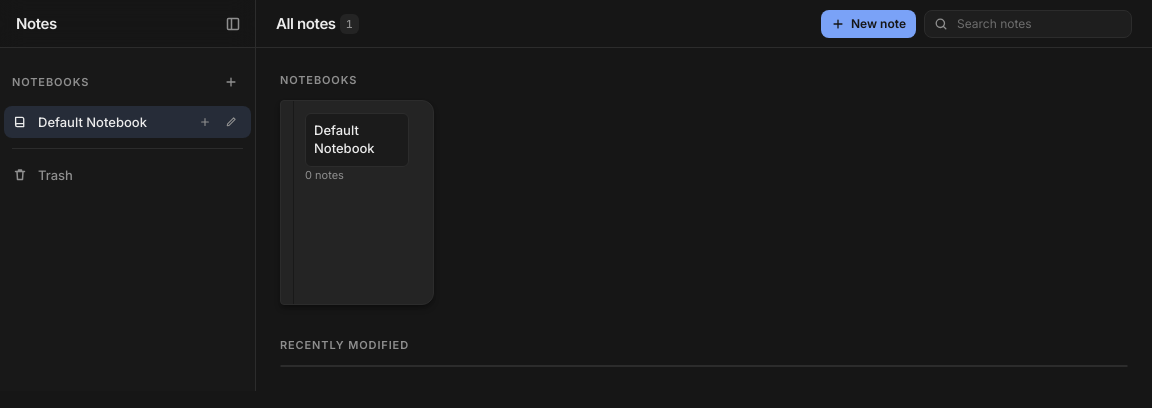
Test case: NotesView, finding a note › leaves the trash for the notes home when the sidebar title is clicked
This screenshot has width=1152, height=408.
Click the button "Trash" at (128, 175), box [4,159,251,191]
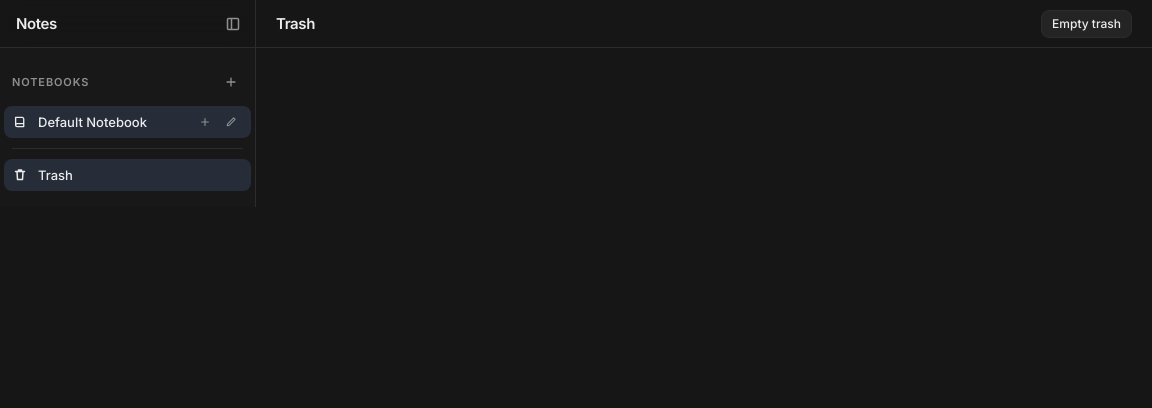
Expected: the element "Trash" is shown, [256,0,1151,48]
Click the button "Notes" at (36, 24), box [16,12,57,34]
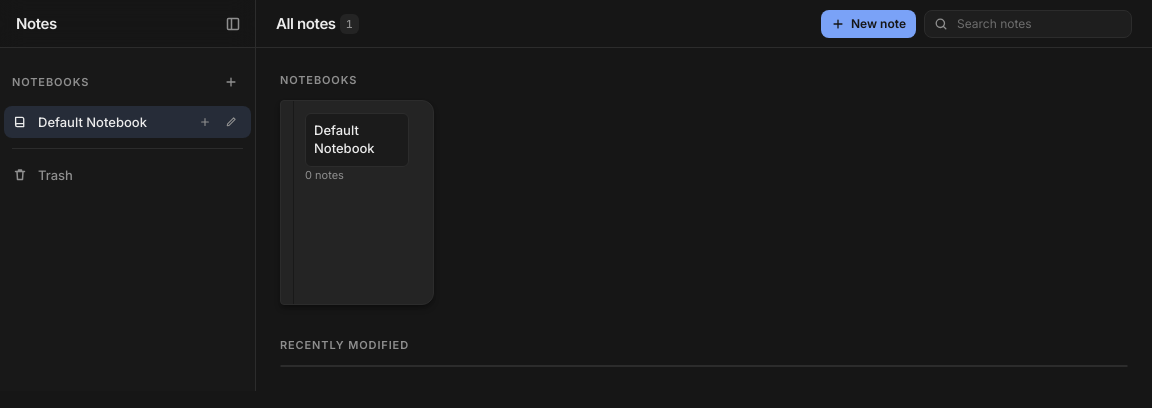
Expected: the heading "Recently modified" is shown, [280,338,409,352]
